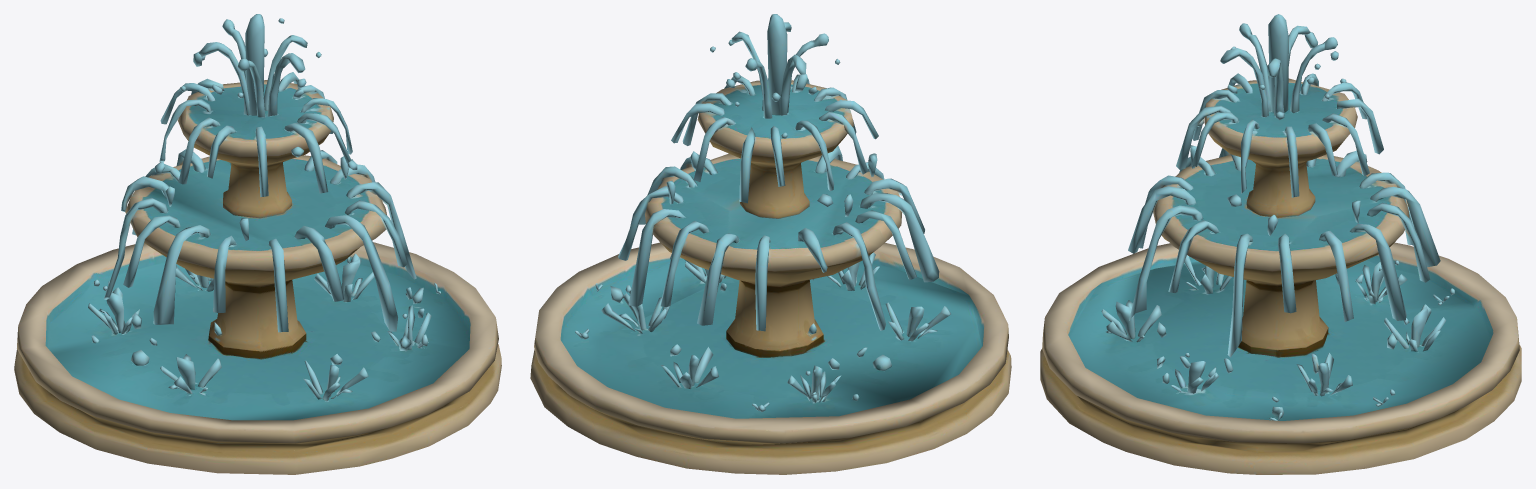
Rendered from 019e4c06-d13a-7ff9-bee9-80198490b192.glb.
3 renders of one model, left to right at view 1: azimuth 30°, elevation 25°; view 2: azimuth 150°, elevation 25°; view 3: azimuth 270°, elevation 25°, orthographic.
Parts seen in each view (by area): view 1: tripo_node_3f1fa314-6fec-4c74-8d3c-1d1fe96a3b38; view 2: tripo_node_3f1fa314-6fec-4c74-8d3c-1d1fe96a3b38; view 3: tripo_node_3f1fa314-6fec-4c74-8d3c-1d1fe96a3b38.
Part boxes in pixels (box(x1,y1,x2,y2)): tripo_node_3f1fa314-6fec-4c74-8d3c-1d1fe96a3b38: box(14, 14, 501, 474); tripo_node_3f1fa314-6fec-4c74-8d3c-1d1fe96a3b38: box(530, 14, 1011, 474); tripo_node_3f1fa314-6fec-4c74-8d3c-1d1fe96a3b38: box(1040, 14, 1521, 474).
Bounding box in the file's own units: 0.998 × 0.8184 × 0.998.
1 material, 1 textured.
